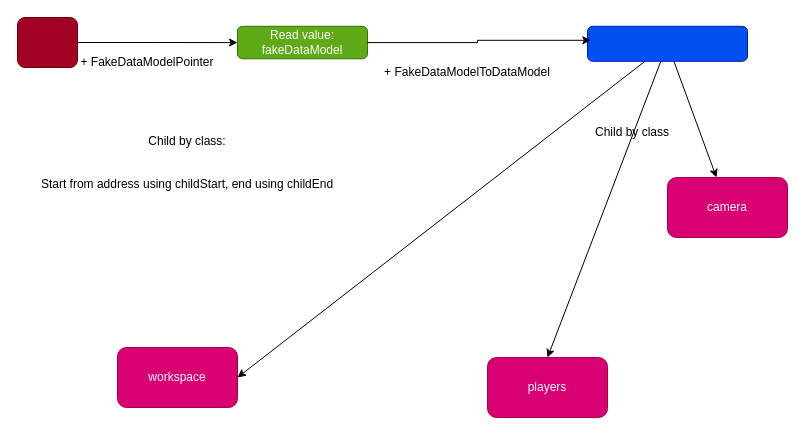
Some shapes in this 805 by 435 pixel diagram are drawn without their labels. Here are the shapes that lost their labels. From the top down, the centre of each, then its label:
point 47,42: Base Address
point 667,43: Read value: dataModelPtr
